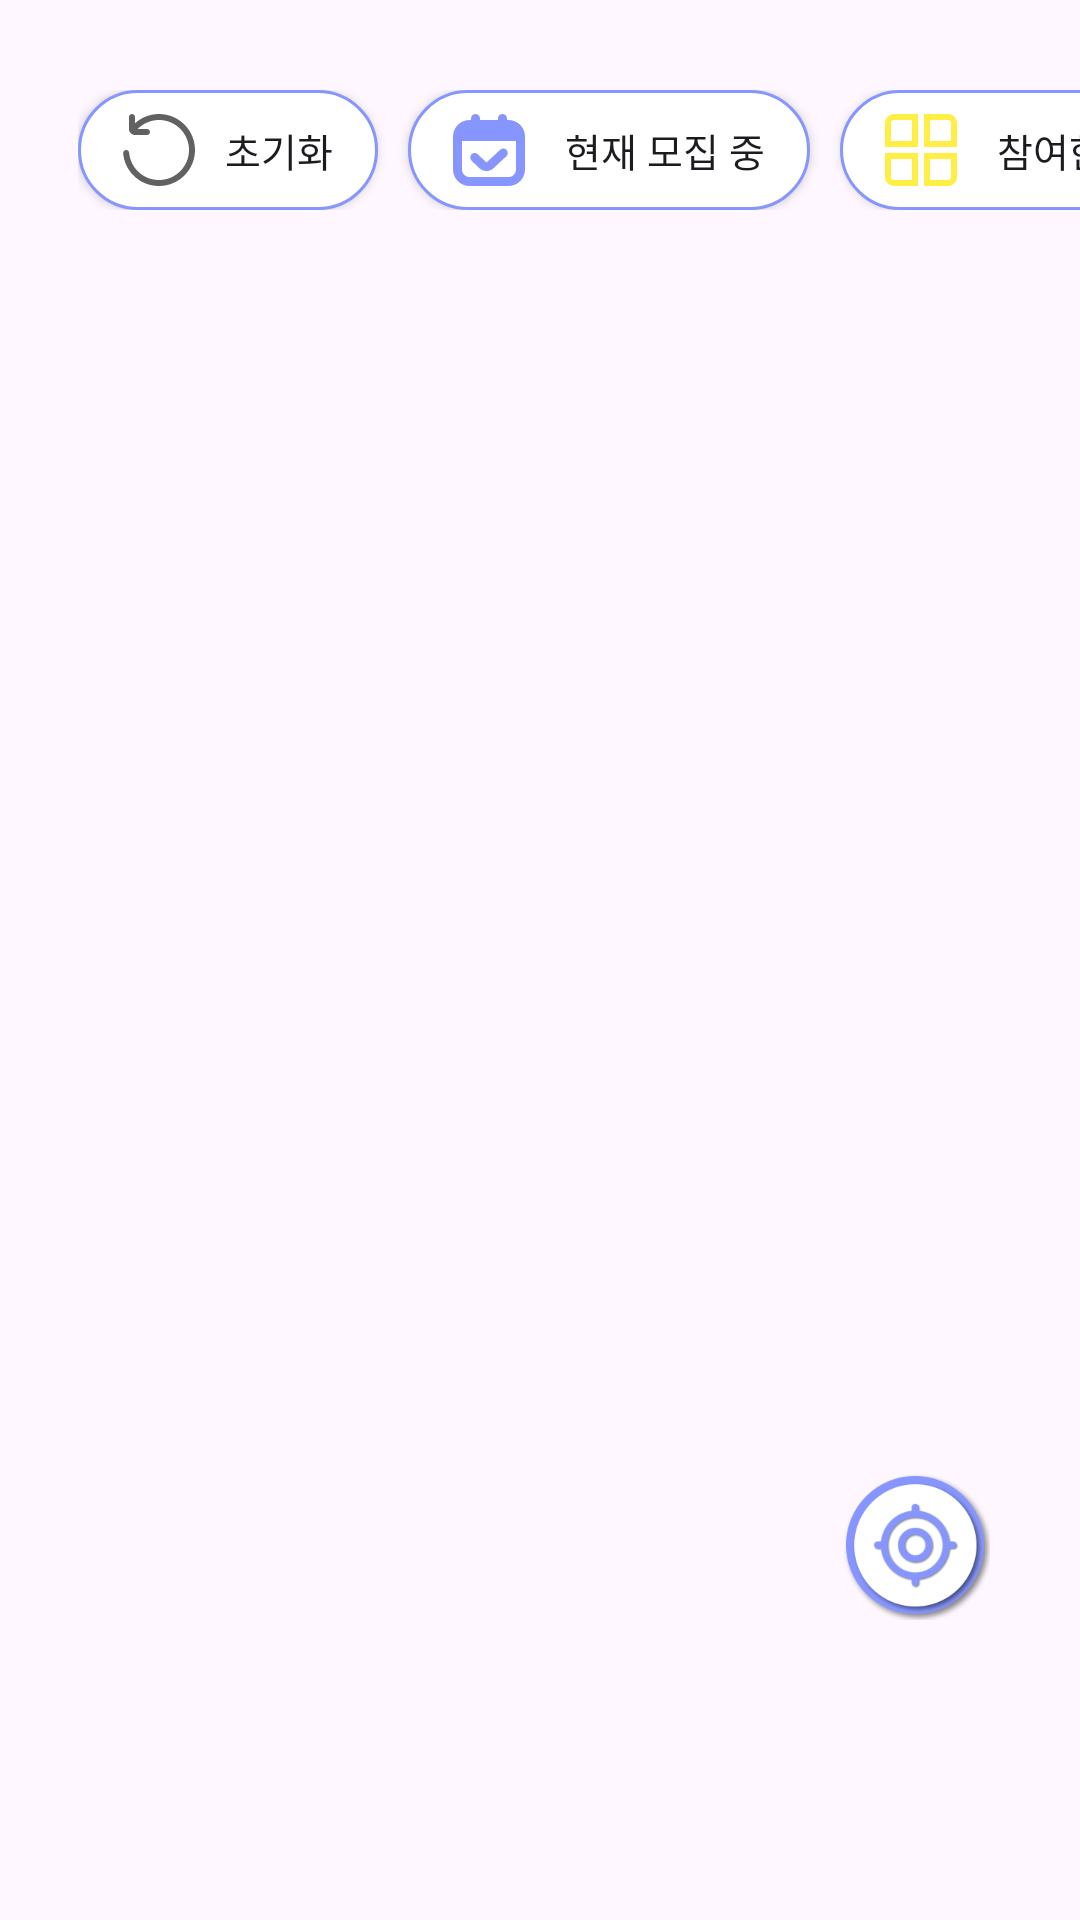

Point at icon controls on the screen. Image size 1080x1920, points as (x,y).
locationbutton: (917,1547)
